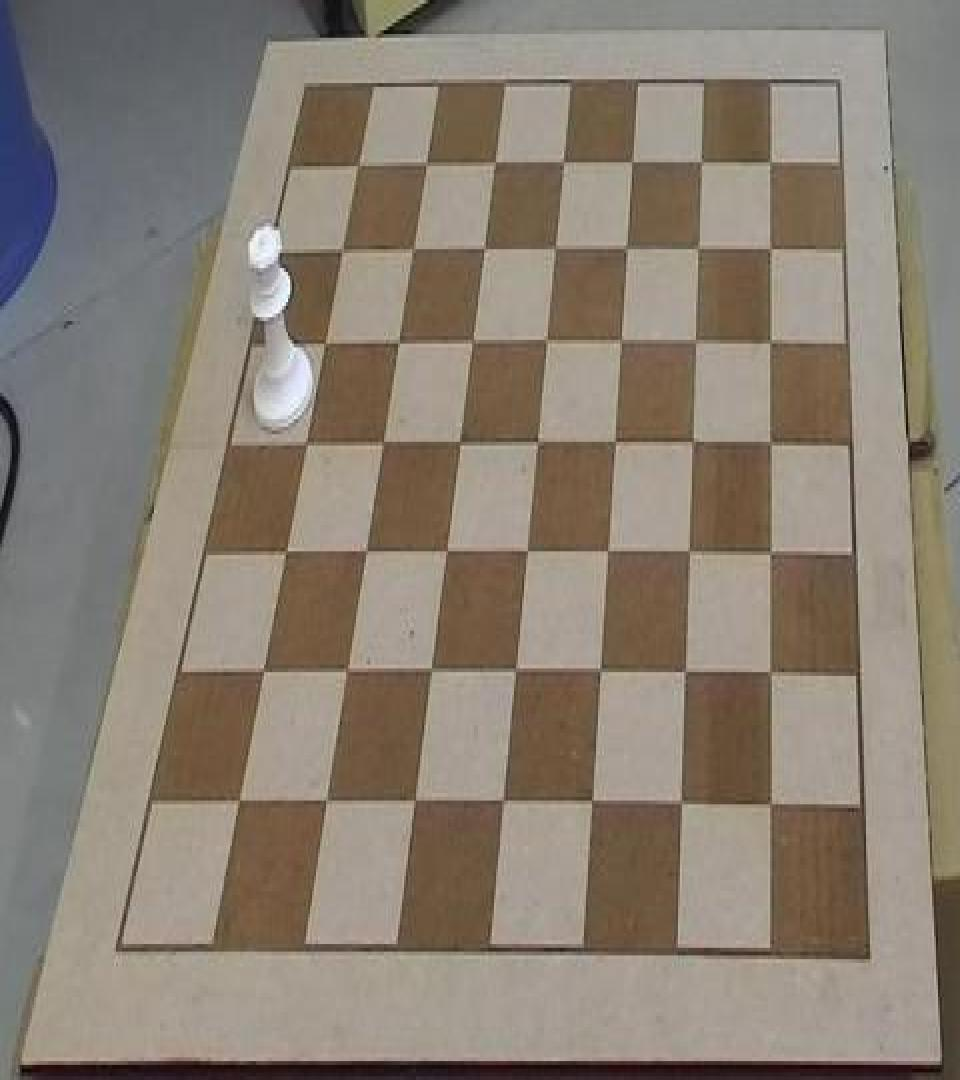xcorner: (759, 144, 779, 182), (690, 146, 710, 184), (620, 146, 640, 184), (551, 146, 571, 184), (482, 146, 502, 184), (414, 146, 434, 184), (345, 146, 365, 184), (760, 230, 780, 268), (687, 230, 707, 268), (615, 230, 635, 268), (543, 230, 563, 268), (472, 230, 492, 268), (400, 230, 420, 268), (329, 230, 349, 268), (760, 322, 780, 360), (685, 322, 705, 360), (610, 322, 630, 360), (535, 322, 555, 360), (460, 322, 480, 360), (386, 322, 406, 360), (312, 322, 332, 360), (761, 424, 781, 462), (682, 424, 702, 462), (604, 424, 624, 462), (526, 424, 546, 462), (448, 424, 468, 462), (370, 424, 390, 462), (293, 423, 313, 461), (761, 536, 781, 574), (679, 536, 699, 574), (597, 534, 617, 572), (516, 534, 536, 572), (434, 534, 454, 572), (353, 534, 373, 572), (273, 532, 293, 570), (762, 657, 782, 695), (676, 657, 696, 695), (590, 655, 610, 693), (505, 655, 525, 693), (419, 653, 439, 691), (335, 653, 355, 691), (250, 653, 270, 691), (763, 791, 783, 829), (672, 789, 692, 827), (582, 789, 602, 827), (492, 787, 512, 825), (403, 786, 423, 824), (314, 786, 334, 824), (226, 784, 246, 822)
